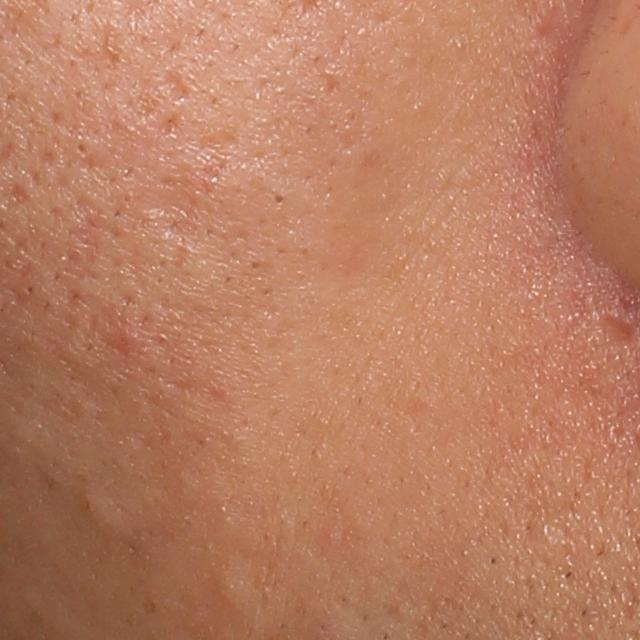atrophic_scar: (163, 63, 191, 107)
comedo: (69, 483, 130, 537), (204, 563, 254, 608), (71, 139, 93, 159), (271, 190, 286, 207)
